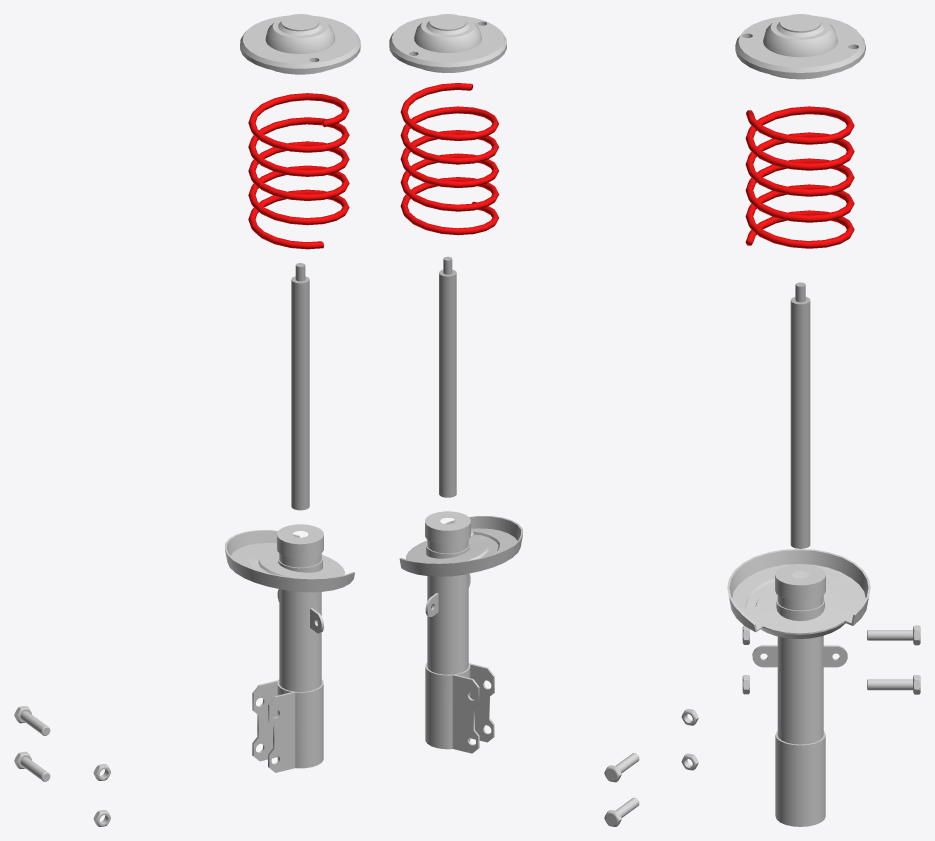
File: susp.glb
3 renders of one model, left to right at view 1: azimuth 30°, elevation 25°; view 2: azimuth 150°, elevation 25°; view 3: azimuth 270°, elevation 25°, orthographic. The views are drawn at different scales.
Visible parts, largest first — view 1: amortyzatorPrzod_1(0), sprezynnaPrzod_1(0), czapkaAmorPrzod_1(0), gora; view 2: amortyzatorPrzod_1(0), sprezynnaPrzod_1(0), czapkaAmorPrzod_1(0), gora; view 3: amortyzatorPrzod_1(0), sprezynnaPrzod_1(0), czapkaAmorPrzod_1(0), gora, srubaDuza_1N, Obj_srubaDuza_1N.
Part boxes in pixels (left/top/right/bottom): amortyzatorPrzod_1(0): left=225, top=524, right=354, bottom=772; sprezynnaPrzod_1(0): left=248, top=93, right=349, bottom=249; czapkaAmorPrzod_1(0): left=240, top=14, right=360, bottom=74; gora: left=291, top=263, right=309, bottom=510; amortyzatorPrzod_1(0): left=399, top=511, right=522, bottom=753; sprezynnaPrzod_1(0): left=400, top=83, right=499, bottom=235; czapkaAmorPrzod_1(0): left=389, top=14, right=506, bottom=72; gora: left=439, top=256, right=456, bottom=497; amortyzatorPrzod_1(0): left=727, top=549, right=870, bottom=826; sprezynnaPrzod_1(0): left=745, top=106, right=854, bottom=248; czapkaAmorPrzod_1(0): left=735, top=14, right=865, bottom=79; gora: left=790, top=282, right=810, bottom=548; srubaDuza_1N: left=867, top=675, right=920, bottom=694; Obj_srubaDuza_1N: left=867, top=625, right=920, bottom=645.
Bounding box in the file's own units: 0.0115 × 0.0285 × 0.00631.
